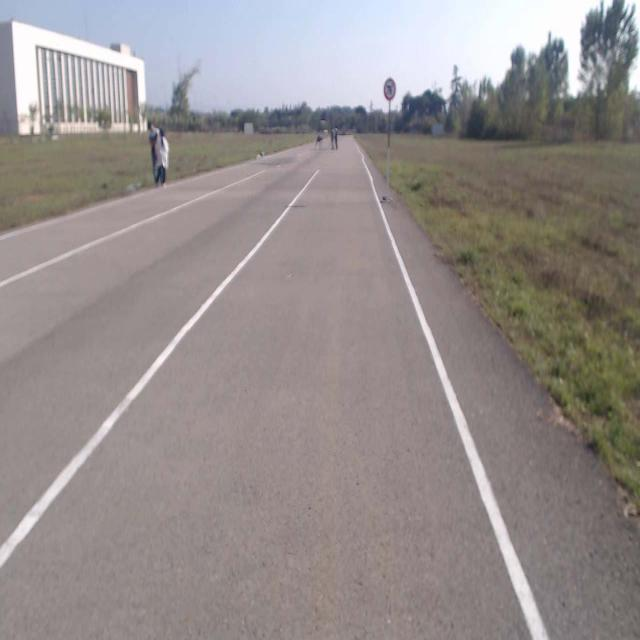soladonulmez: (385, 79, 395, 101)
